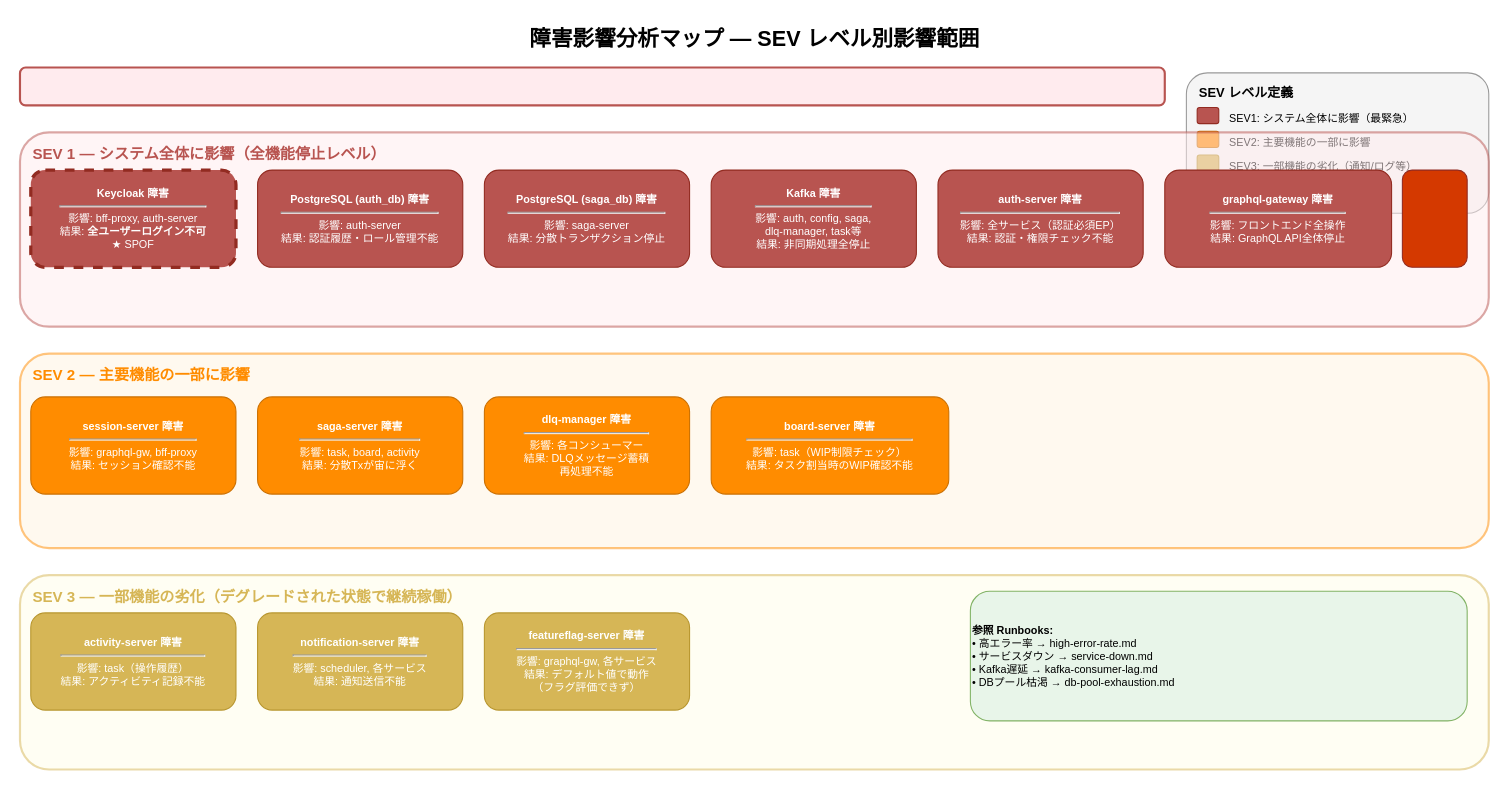
Image size: 1508x788. Some labels were removed from this diagram. The box of each missing label's shape, as (x1, y1, x2, y2) in pixels:
Redis 障害 影響: bff-proxy, ratelimit 結果: セッション喪失 （SEV1 or SEV2）: (1401, 169, 1467, 267)
⚠ 最大の単一障害点 (SPOF): Keycloak が停止すると全ユーザーのログインが不可になる: (18, 66, 1165, 106)
